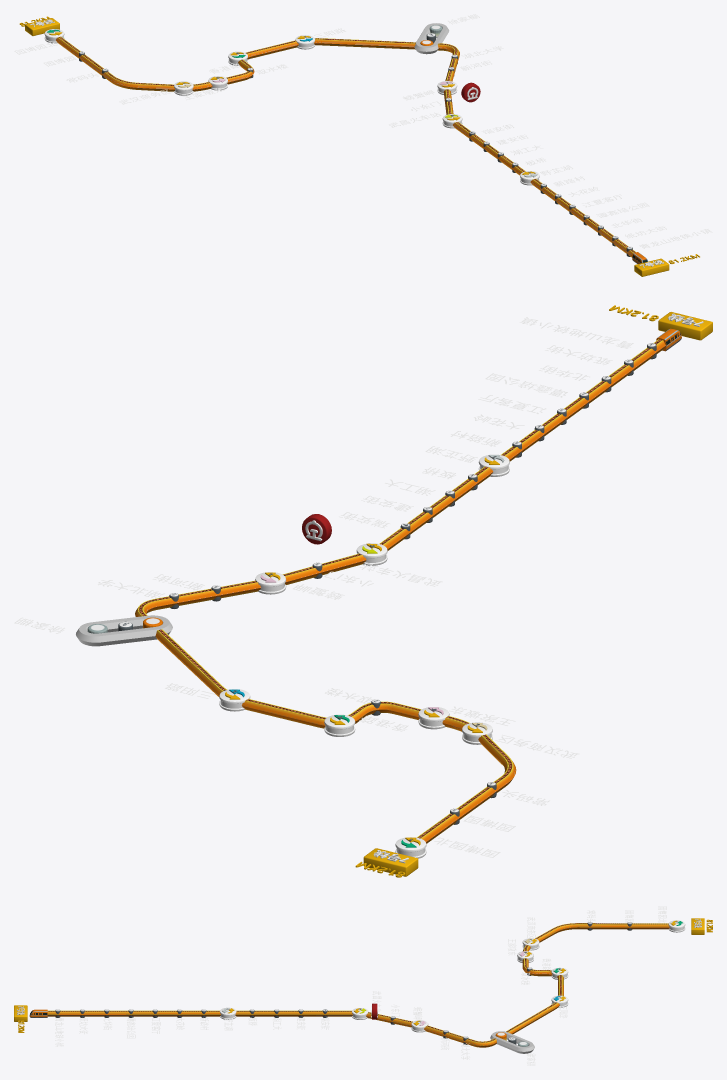
3 views of the same model, one above another, from view 1: azimuth 30°, elevation 25°; view 2: azimuth 150°, elevation 25°; view 3: azimuth 270°, elevation 25° (orthographic). The views are drawn at different scales.
Visible parts, largest first — view 1: 7号线, psop-whgj-xjp-徐家棚, psop-whgj-whswq-武汉商务区; view 2: 7号线, psop-whgj-xjp-徐家棚, psop-whgj-whswq-武汉商务区, psop-whgj-ybyb-园博园北, psop-whgj-wchcz-武昌火车站, Box019; view 3: 7号线, psop-whgj-xjp-徐家棚, psop-whgj-ybyb-园博园北, psop-whgj-whswq-武汉商务区, psop-whgj-pxj-螃蟹岬.
Part boxes in pixels (x1,y1,x2,y2): 7号线: (56,36,635,257); psop-whgj-xjp-徐家棚: (414,14,479,54); psop-whgj-whswq-武汉商务区: (119,81,193,104); 7号线: (135,339,665,843); psop-whgj-xjp-徐家棚: (14,615,172,646); psop-whgj-whswq-武汉商务区: (462,722,579,758); psop-whgj-ybyb-园博园北: (395,837,500,858); psop-whgj-wchcz-武昌火车站: (356,543,442,586); Box019: (658,312,712,340); 7号线: (47,923,669,1047); psop-whgj-xjp-徐家棚: (490,1031,535,1065); psop-whgj-ybyb-园博园北: (658,906,685,932); psop-whgj-whswq-武汉商务区: (522,917,539,950); psop-whgj-pxj-螃蟹岬: (411,1007,428,1032).
Size of the model in its own units: 2.44 by 0.1743 by 4.54.
Materials: 15 (4 with a texture image).
